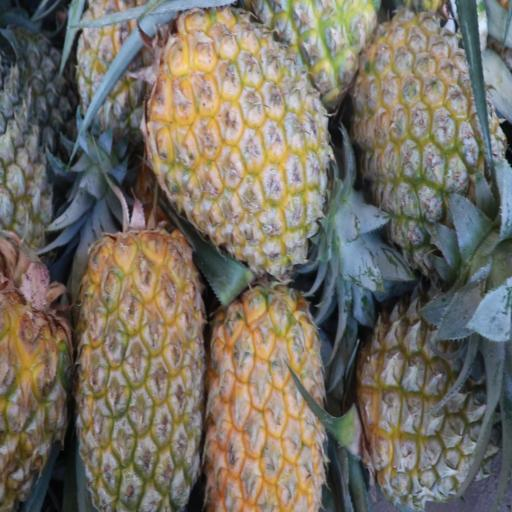------------------------------: (354, 20, 496, 258), (359, 283, 491, 503), (68, 0, 153, 139)
Pineapple - v8 v1: (155, 11, 319, 271), (76, 235, 202, 512), (207, 292, 323, 511), (0, 245, 75, 510), (268, 0, 382, 98)
